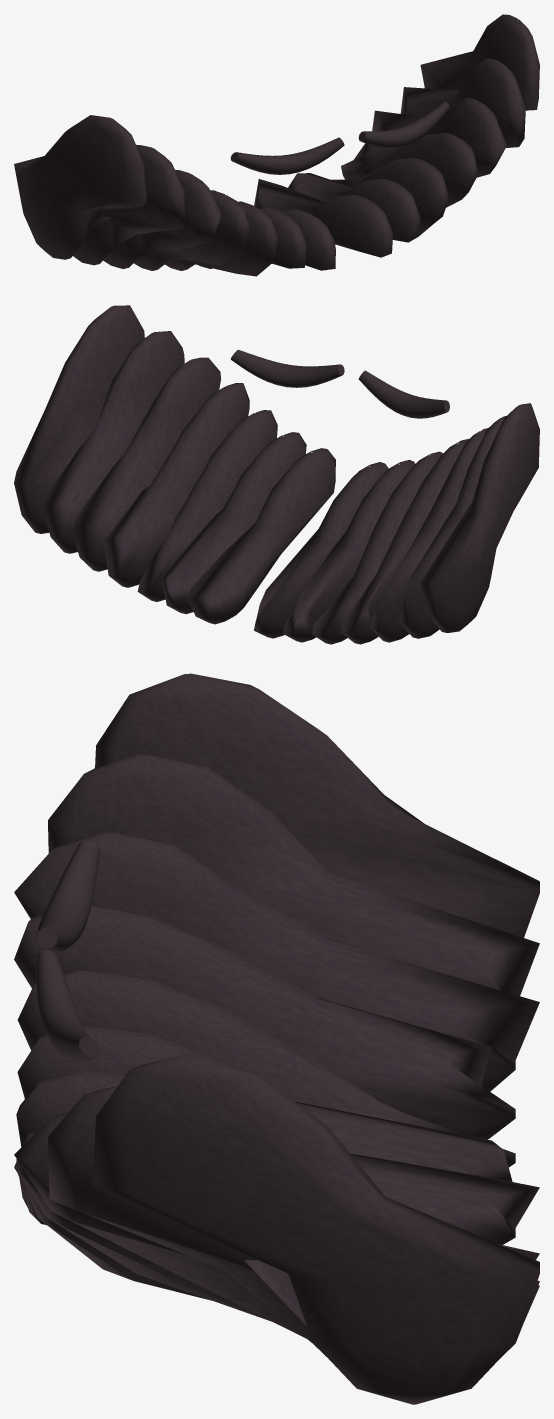
File: facial_rounded_beard_default.gltf
The picture shows the model from 3 angles, top to bottom: view 1: azimuth 30°, elevation 25°; view 2: azimuth 150°, elevation 25°; view 3: azimuth 270°, elevation 25°; orthographic projection. The views are drawn at different scales.
Parts seen in each view (by area): view 1: Rounded Beard; view 2: Rounded Beard; view 3: Rounded Beard.
Part boxes in pixels (left/top/right/bottom): Rounded Beard: left=14, top=14, right=539, bottom=276; Rounded Beard: left=14, top=305, right=539, bottom=644; Rounded Beard: left=14, top=673, right=539, bottom=1404.
Size of the model in its own units: 0.3871 by 0.1872 by 0.2056.
1 material, 1 textured.
